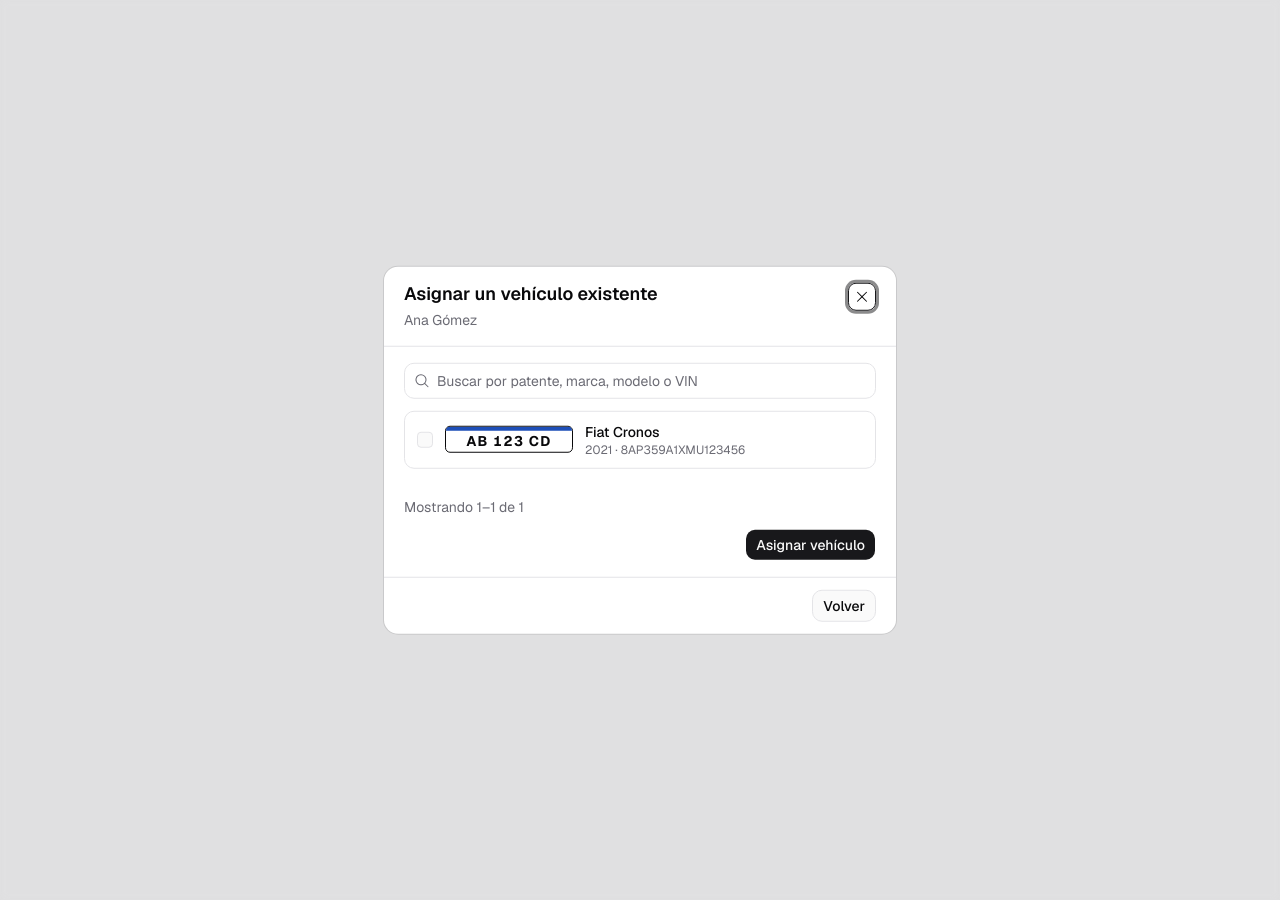
Test case: ClientModal: assign vehicles › asks to choose a vehicle when none is selected
The image size is (1280, 900).
Expected: the checkbox named "AB 123 CD Fiat Cronos" is shown, x1=417 y1=431 x2=433 y2=447
What coordinates should you click on to do the following:
click the button "Asignar vehículo"
I would click on:
 (811, 544)
Its box is x1=745 y1=528 x2=876 y2=560.
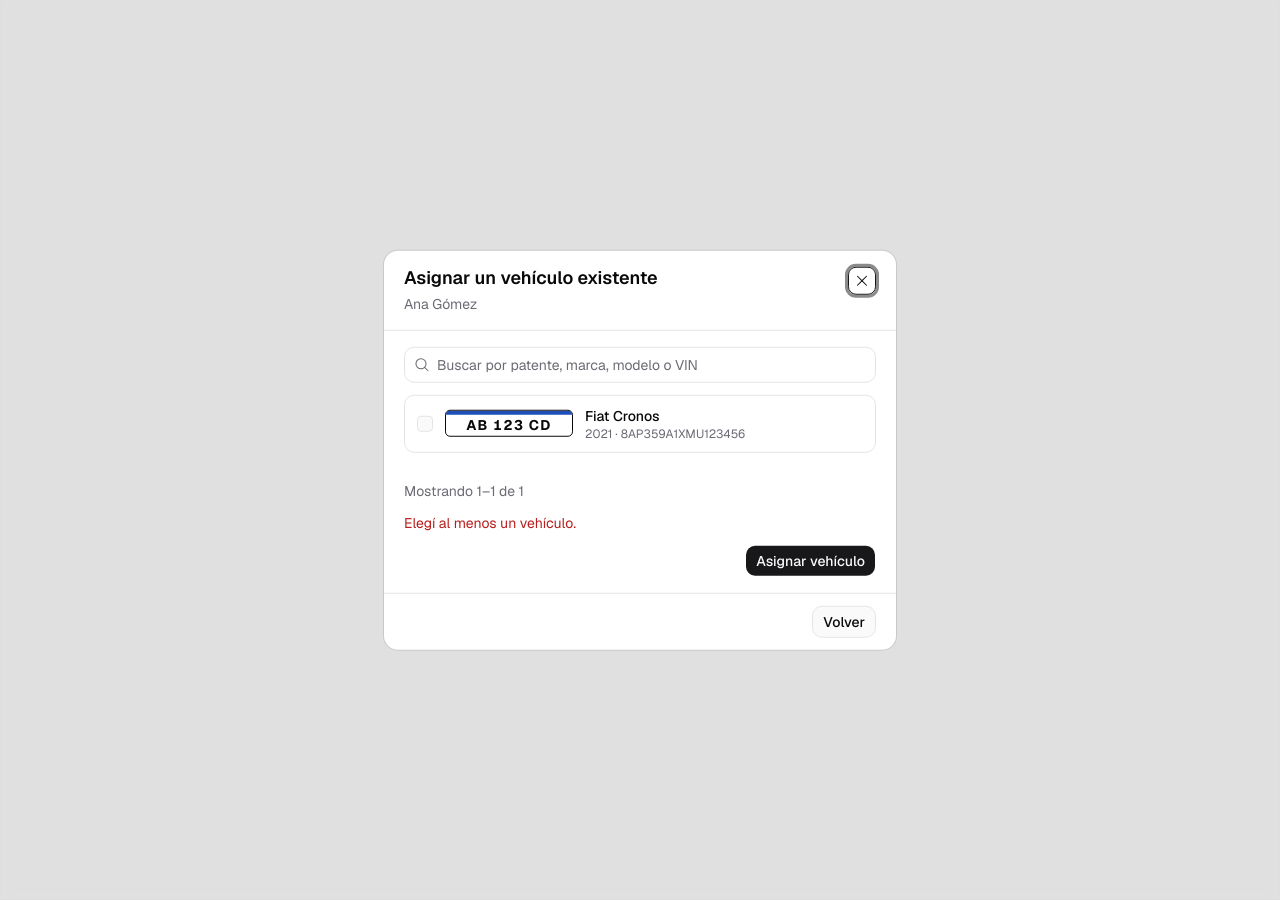
Expected: the text "Elegí al menos un vehículo." is shown, x1=404 y1=513 x2=576 y2=531
